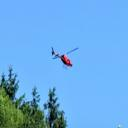helicopter: (52, 48, 79, 71)
